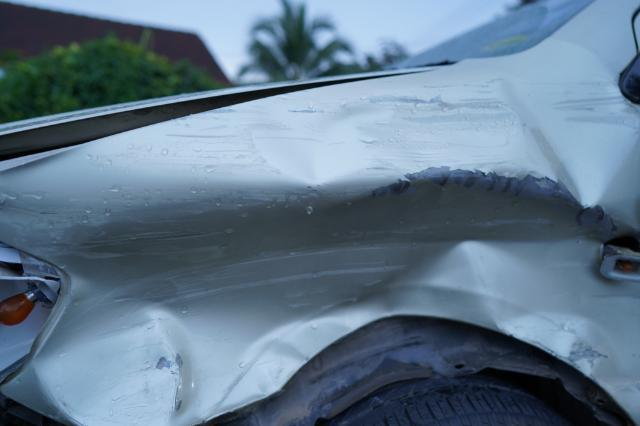dent: (38, 42, 640, 426)
lamp broken: (0, 249, 63, 375)
